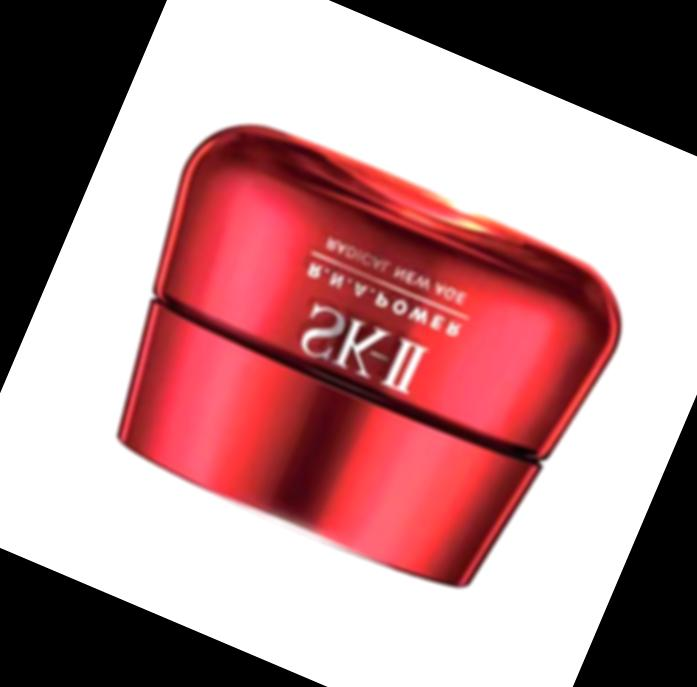cosmetic: (84, 115, 627, 610)
